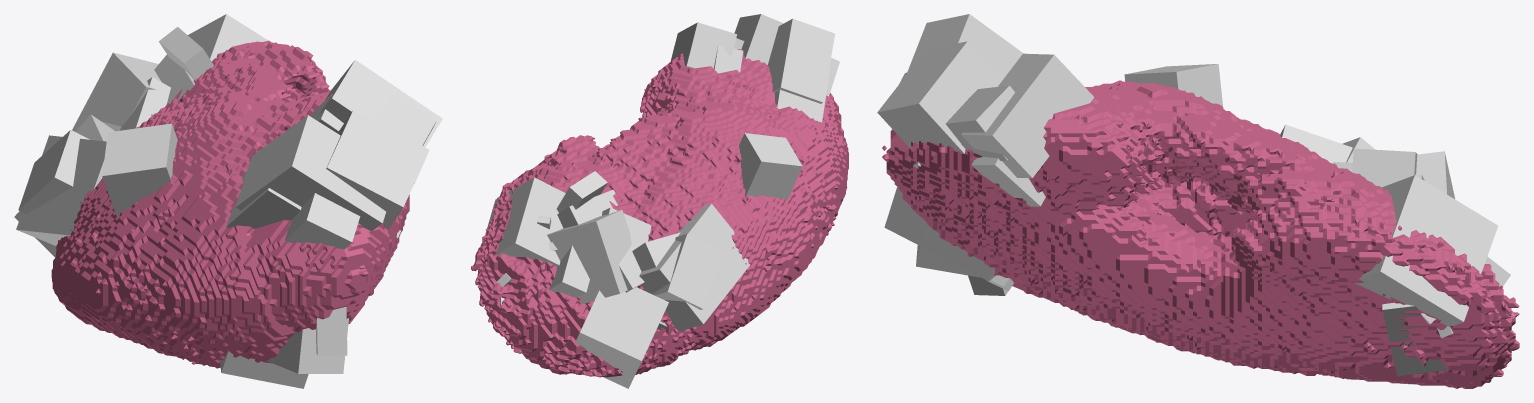
The model's file is non_hra_mapping.glb.
The picture shows the model from 3 angles, left to right: view 1: azimuth 30°, elevation 25°; view 2: azimuth 150°, elevation 25°; view 3: azimuth 270°, elevation 25°; orthographic projection. The views are drawn at different scales.
Visible parts, largest first — view 1: world; view 2: world; view 3: world.
Part boxes in pixels (x1,y1,x2,y2): world: [14, 14, 442, 388]; world: [471, 14, 848, 388]; world: [877, 14, 1519, 388].
Bounding box in the file's own units: 81.6 × 85.32 × 135.
